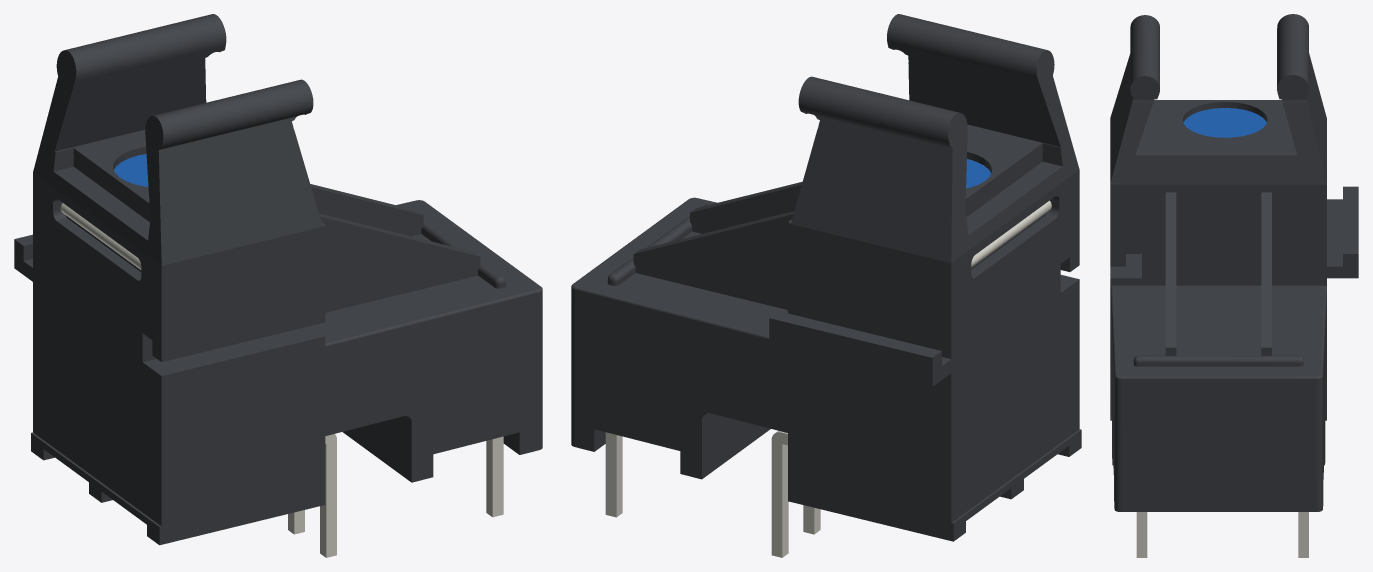
The model's file is kc-broadcom_afbr-16xxz_vertical.glb.
3 views of the same model, side by side, from view 1: azimuth 30°, elevation 25°; view 2: azimuth 150°, elevation 25°; view 3: azimuth 270°, elevation 25° (orthographic). The views are drawn at different scales.
Parts seen in each view (by area): view 1: 0.08333333333333333_0.08333333333333333_0.08333333333333333_, 0.6666666666666666_0.6666666666666666_0.5833333333333334_0.8, 0_0.16666666666666666_0.5_0; view 2: 0.08333333333333333_0.08333333333333333_0.08333333333333333_, 0.6666666666666666_0.6666666666666666_0.5833333333333334_0.8; view 3: 0.08333333333333333_0.08333333333333333_0.08333333333333333_, 0_0.16666666666666666_0.5_0, 0.6666666666666666_0.6666666666666666_0.5833333333333334_0.8.
Part boxes in pixels (<box>): 0.08333333333333333_0.08333333333333333_0.08333333333333333_: <box>14,14,542,545</box>; 0.6666666666666666_0.6666666666666666_0.5833333333333334_0.8: <box>60,203,503,557</box>; 0_0.16666666666666666_0.5_0: <box>114,154,148,186</box>; 0.08333333333333333_0.08333333333333333_0.08333333333333333_: <box>571,14,1081,541</box>; 0.6666666666666666_0.6666666666666666_0.5833333333333334_0.8: <box>605,200,1051,557</box>; 0.08333333333333333_0.08333333333333333_0.08333333333333333_: <box>1110,14,1358,511</box>; 0_0.16666666666666666_0.5_0: <box>1183,108,1266,137</box>; 0.6666666666666666_0.6666666666666666_0.5833333333333334_0.8: <box>1136,512,1308,557</box>.
Size of the model in its own units: 1.78 by 2.09 by 1.17.
